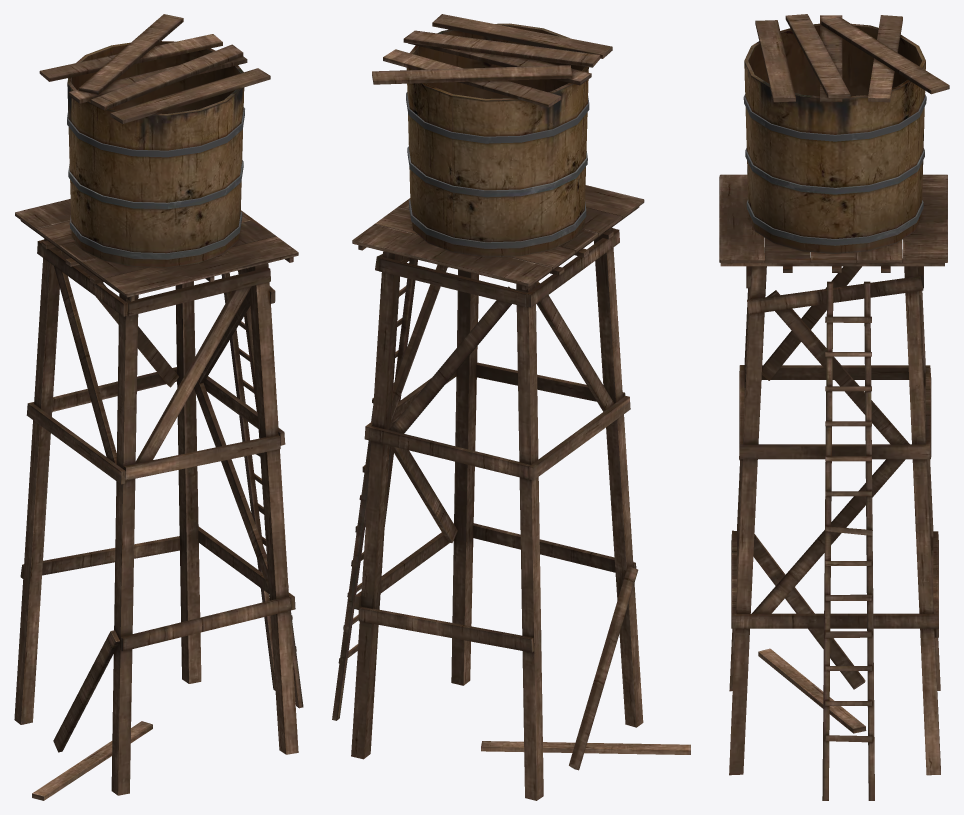
Rendered from BLD_VacuoleReservoir.glb.
3 renders of one model, left to right at view 1: azimuth 30°, elevation 25°; view 2: azimuth 150°, elevation 25°; view 3: azimuth 270°, elevation 25°, orthographic. The views are drawn at different scales.
Parts seen in each view (by area): view 1: Water_tower_Water_tower_0; view 2: Water_tower_Water_tower_0; view 3: Water_tower_Water_tower_0.
Part boxes in pixels (x1=…): Water_tower_Water_tower_0: x1=14, y1=14, x2=303, y2=800; Water_tower_Water_tower_0: x1=332, y1=14, x2=690, y2=800; Water_tower_Water_tower_0: x1=719, y1=14, x2=949, y2=800.
Size of the model in its own units: 3.01 by 6.46 by 1.99.
1 material, 1 textured.
